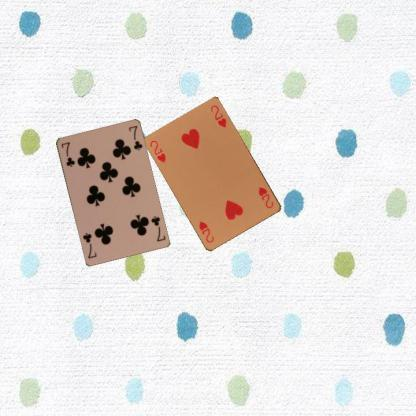2h: (147, 138, 168, 164), (256, 183, 275, 210)
7c: (148, 213, 166, 243), (58, 139, 76, 168)
